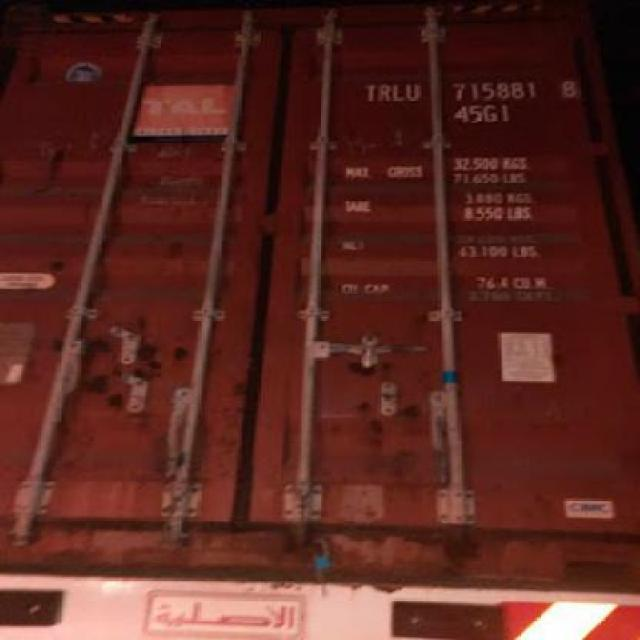ISO: (454, 100, 512, 124)
container_number: (366, 68, 584, 102)
